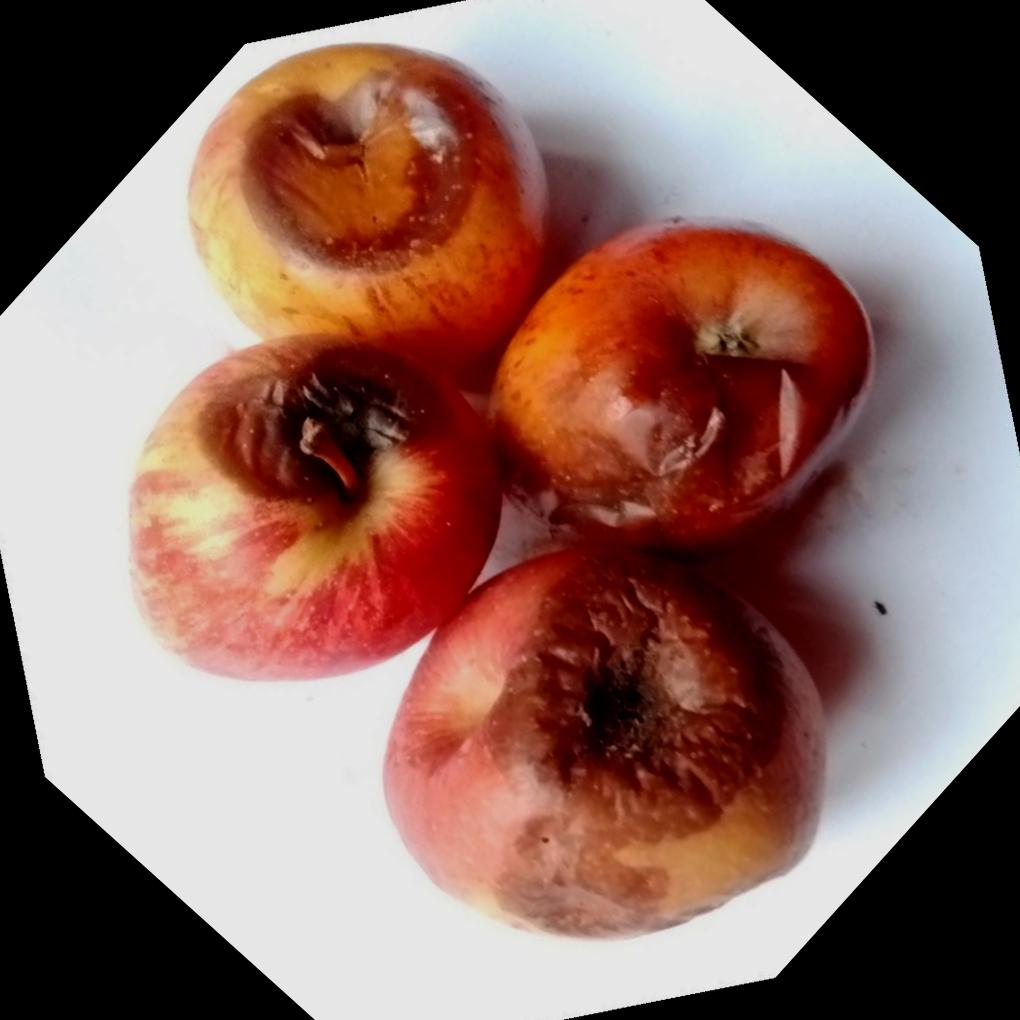FreshOrange: (120, 35, 876, 940)
